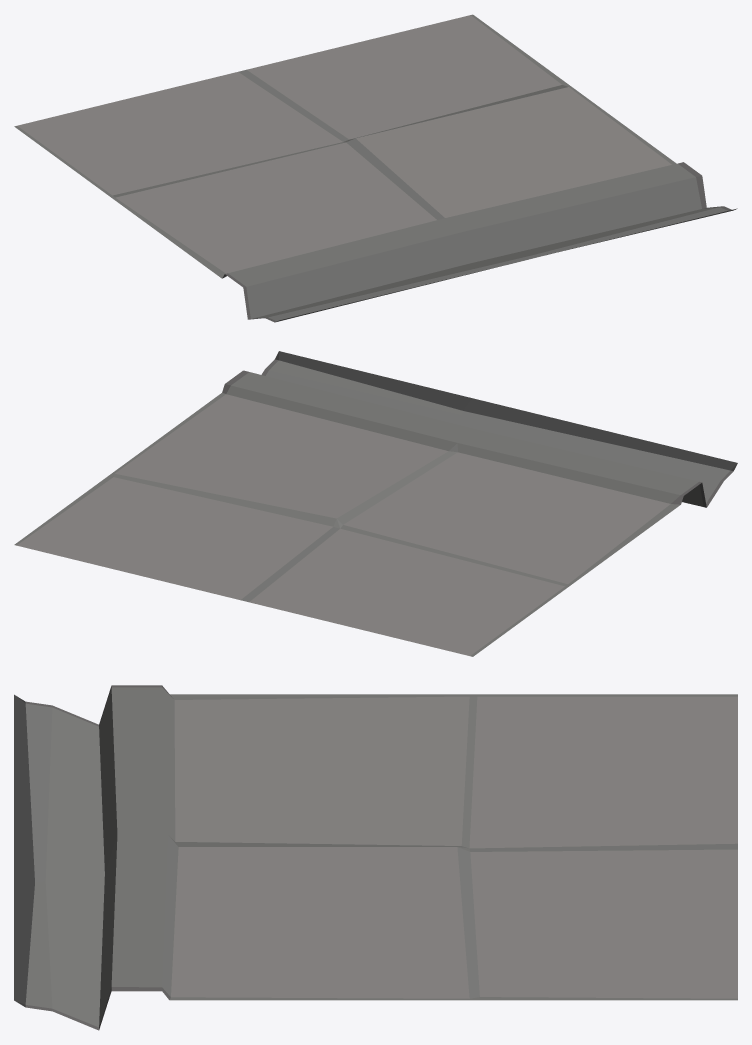
File: SM_Env_Sidewalk_Straight_01.fbx
3 views of the same model, one above another, from view 1: azimuth 30°, elevation 25°; view 2: azimuth 150°, elevation 25°; view 3: azimuth 270°, elevation 25° (orthographic). The views are drawn at different scales.
Parts seen in each view (by area): view 1: SM_Env_Sidewalk_Straight_01; view 2: SM_Env_Sidewalk_Straight_01; view 3: SM_Env_Sidewalk_Straight_01.
Boxes of the visible parts, left/top/right/bottom form: SM_Env_Sidewalk_Straight_01: left=14, top=14, right=737, bottom=322; SM_Env_Sidewalk_Straight_01: left=14, top=351, right=737, bottom=656; SM_Env_Sidewalk_Straight_01: left=14, top=685, right=737, bottom=1030.
Size of the model in its own units: 5 by 0.3 by 5.
